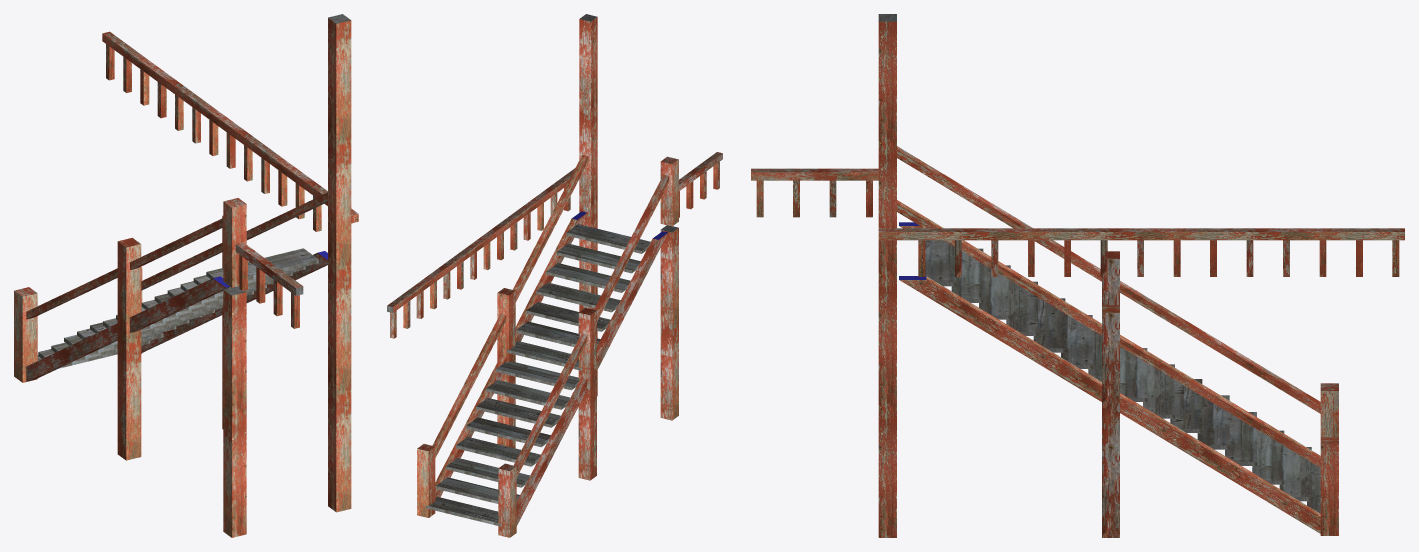
Rendered from redstair1.fbx.
3 renders of one model, left to right at view 1: azimuth 30°, elevation 25°; view 2: azimuth 150°, elevation 25°; view 3: azimuth 270°, elevation 25°, orthographic. The views are drawn at different scales.
Parts seen in each view (by area): view 1: redstair1; view 2: redstair1; view 3: redstair1.
Boxes of the visible parts, box(x1,y1,x2,y2) form: redstair1: box(14, 14, 358, 537); redstair1: box(387, 14, 722, 537); redstair1: box(751, 14, 1404, 537).
Size of the model in its own units: 13600 by 50000 by 57400.
